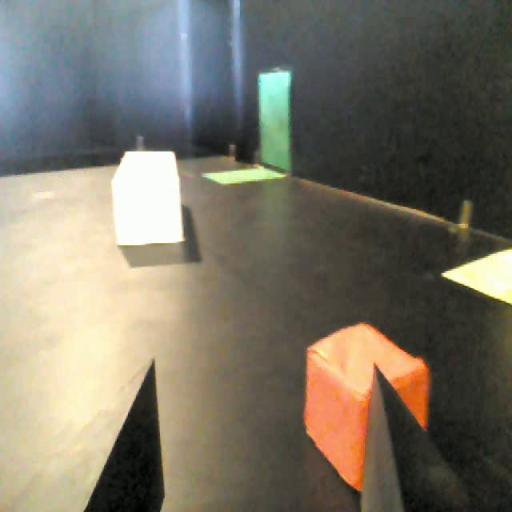cube: (299, 318, 439, 487)
